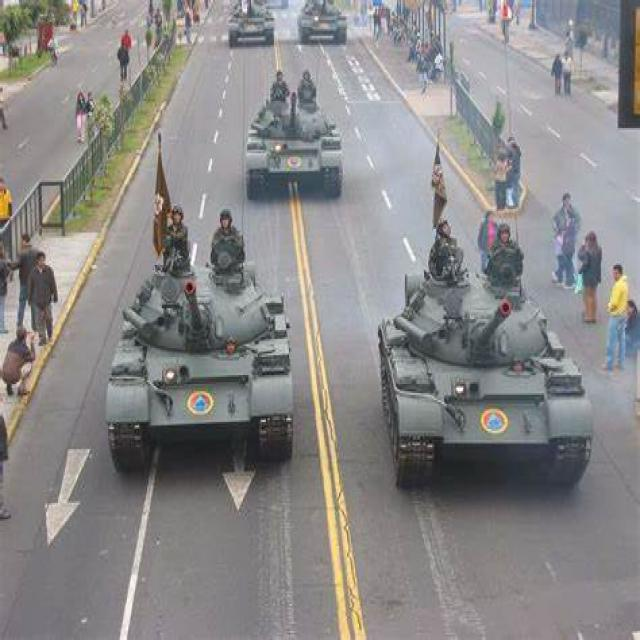tank: (379, 218, 593, 498), (104, 202, 292, 478), (247, 72, 342, 207), (222, 0, 277, 50), (297, 0, 351, 49)
